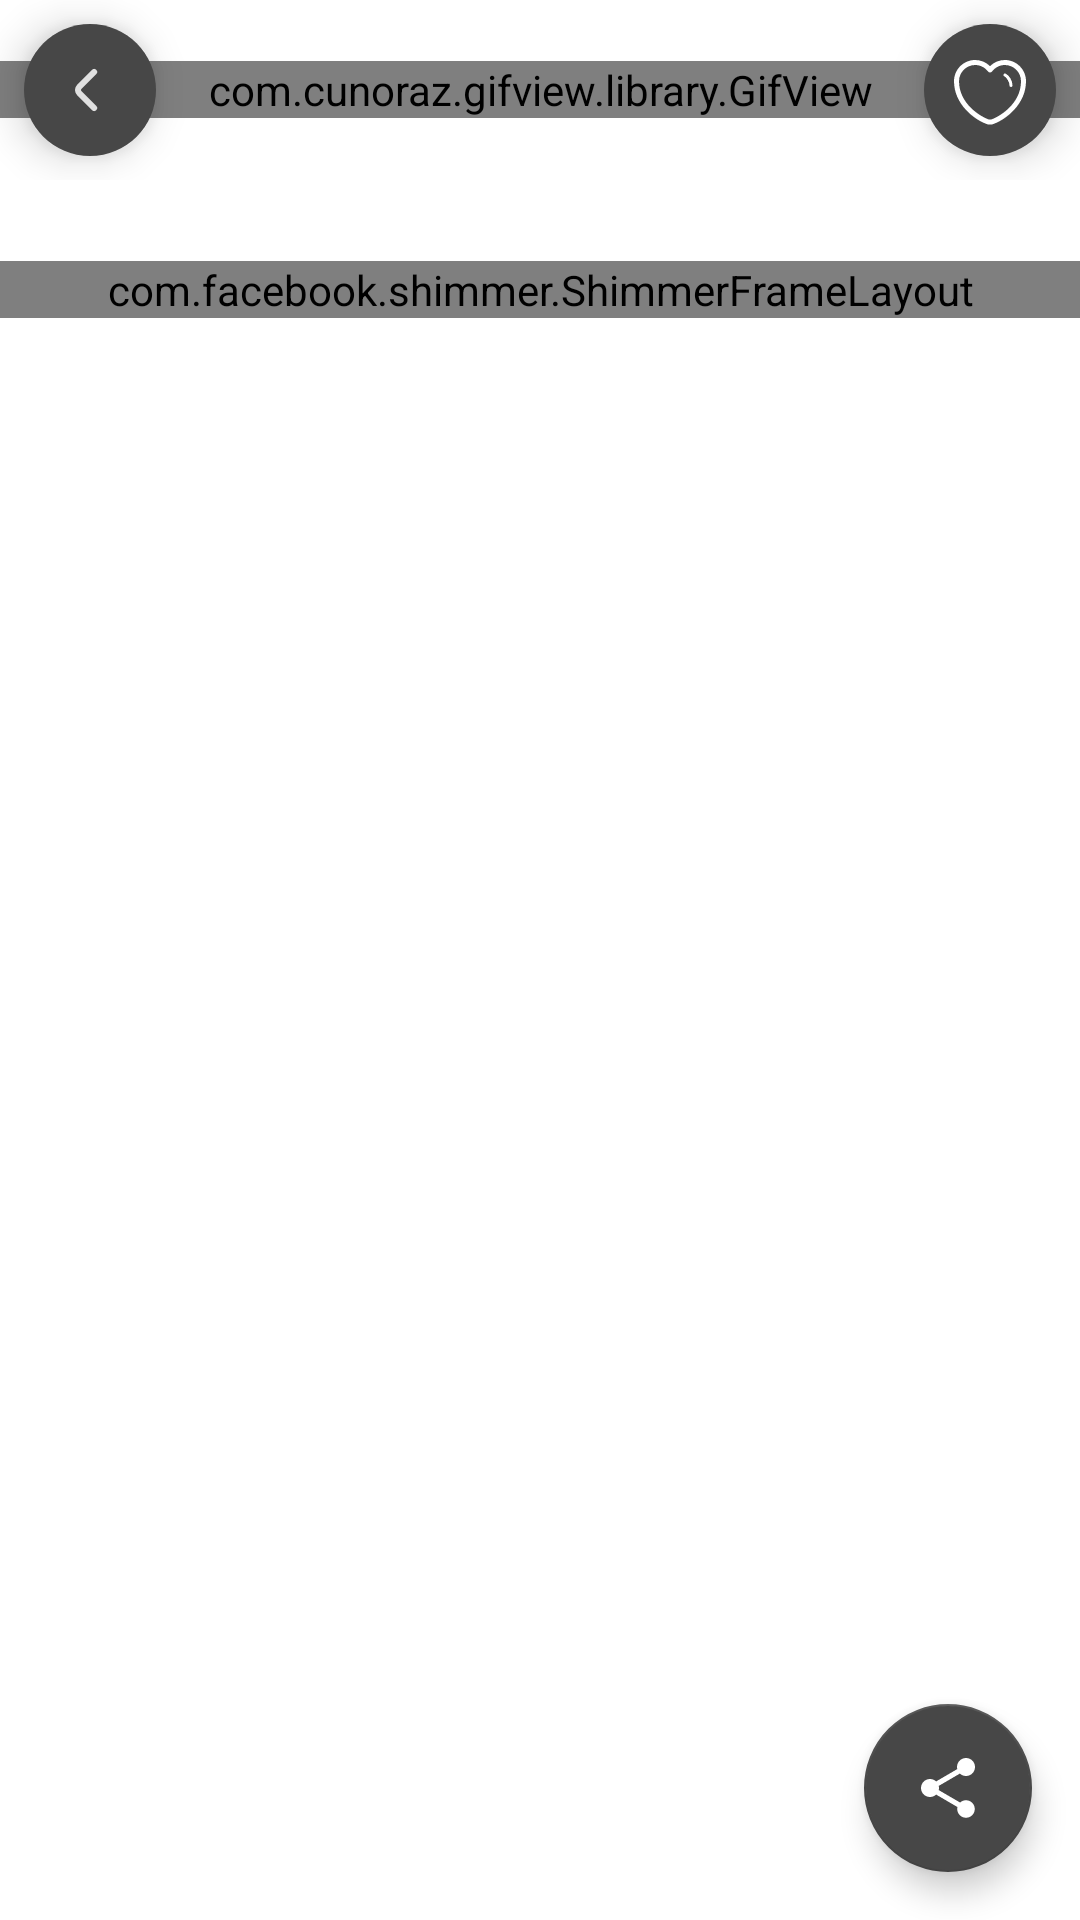

Icon bounding boxes for this 1080px x 1920px phone screenshot, format box(x1, y1, x2, y2):
arrow back: box(24, 24, 156, 156)
heart detail: box(924, 24, 1056, 156)
Share: box(864, 1704, 1032, 1872)
